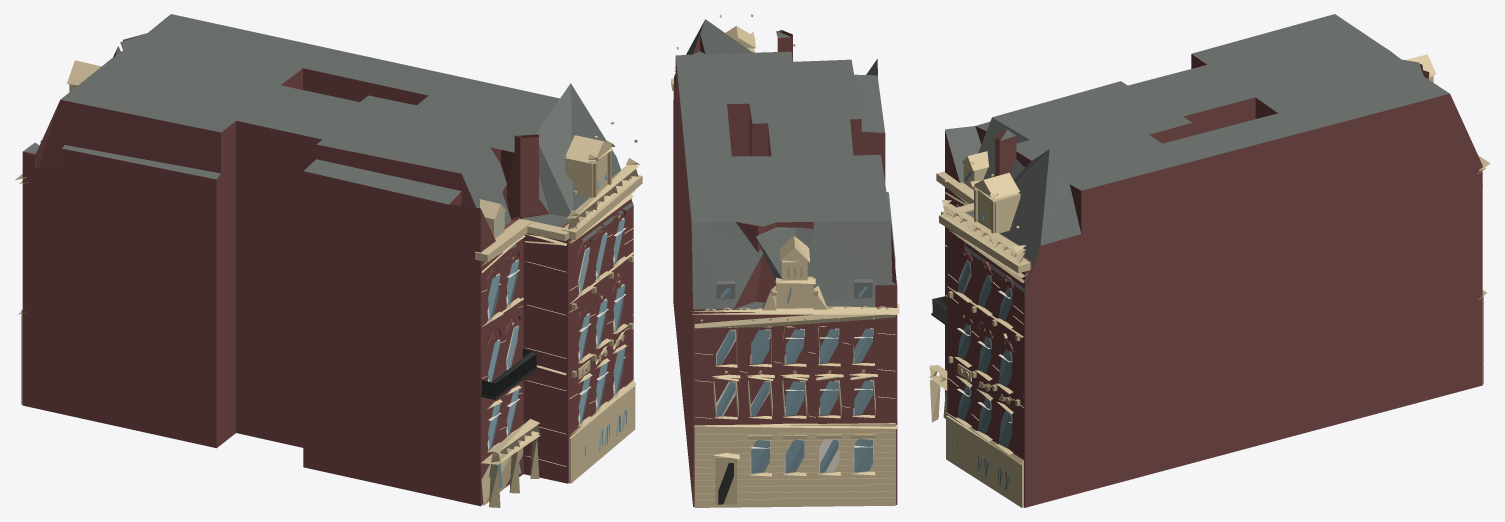
The model's file is nieuwe-doelenstraat-12.lod1.glb.
3 renders of one model, left to right at view 1: azimuth 30°, elevation 25°; view 2: azimuth 150°, elevation 25°; view 3: azimuth 270°, elevation 25°, orthographic. The views are drawn at different scales.
Parts seen in each view (by area): view 1: nieuwe-doelenstraat-12; view 2: nieuwe-doelenstraat-12; view 3: nieuwe-doelenstraat-12.
Part boxes in pixels (x1=…): nieuwe-doelenstraat-12: x1=15, y1=14, x2=642, y2=507; nieuwe-doelenstraat-12: x1=671, y1=14, x2=899, y2=507; nieuwe-doelenstraat-12: x1=929, y1=14, x2=1490, y2=507.
Size of the model in its own units: 31.1 by 23.2 by 35.26.
